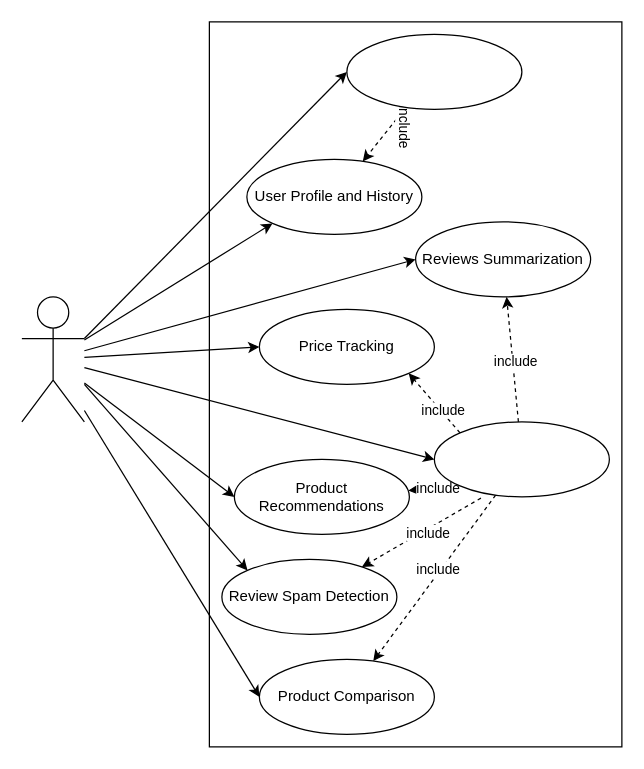
The diagram is 644 pixels wide and 769 high, and some of its shapes have lost their labels. Each missing label, with the centre of its shape:
log in: [434,71]
Search by link: [521,459]
user: [52,359]
